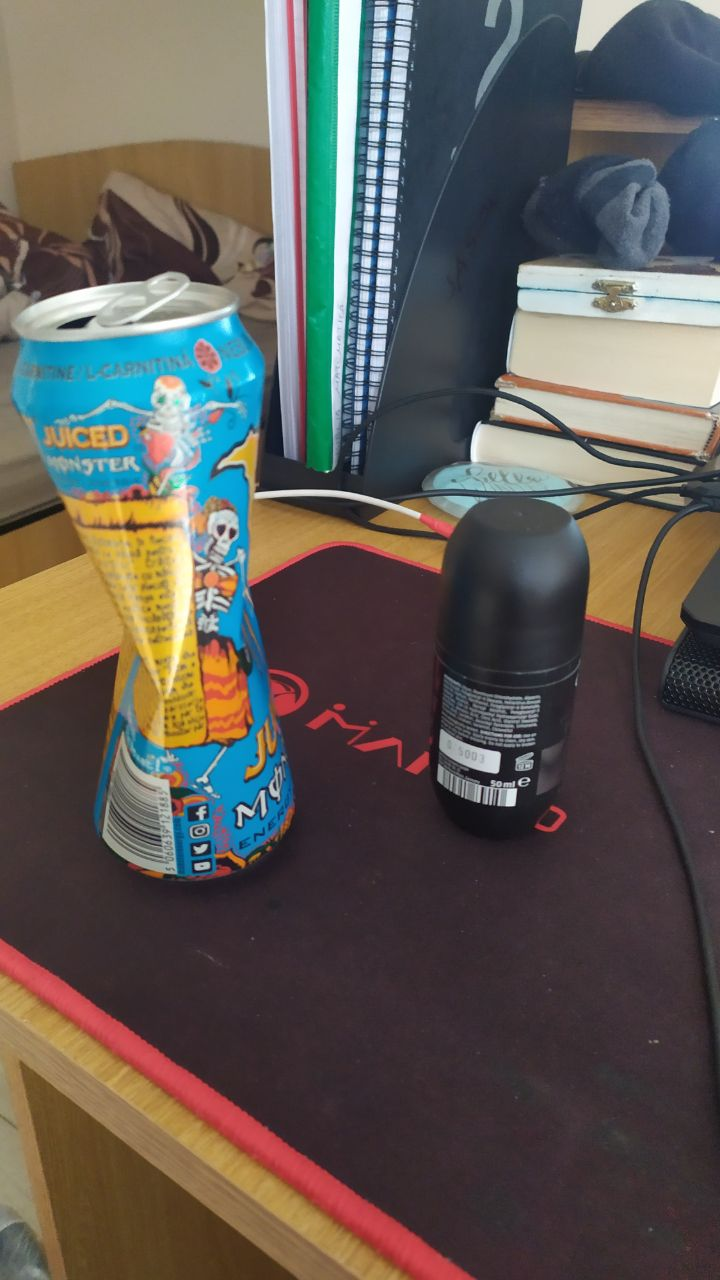Can: (13, 271, 301, 875)
